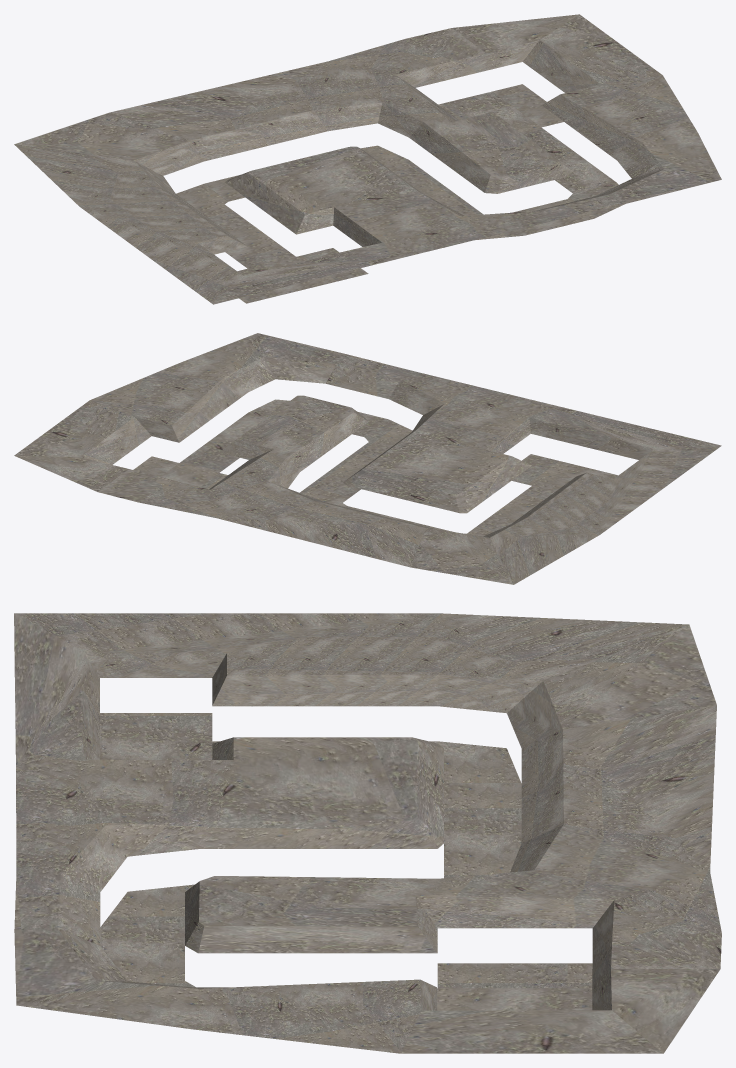
The model's file is Tutmap1.fbx.
3 renders of one model, top to bottom at view 1: azimuth 30°, elevation 25°; view 2: azimuth 150°, elevation 25°; view 3: azimuth 270°, elevation 25°, orthographic. The views are drawn at different scales.
Visible parts, largest first — view 1: Plane; view 2: Plane; view 3: Plane.
Part boxes in pixels (box(x1,y1,x2,y2)): Plane: box(14, 14, 721, 304); Plane: box(14, 333, 721, 584); Plane: box(14, 613, 721, 1053).
Size of the model in its own units: 7419 by 418 by 5038.
